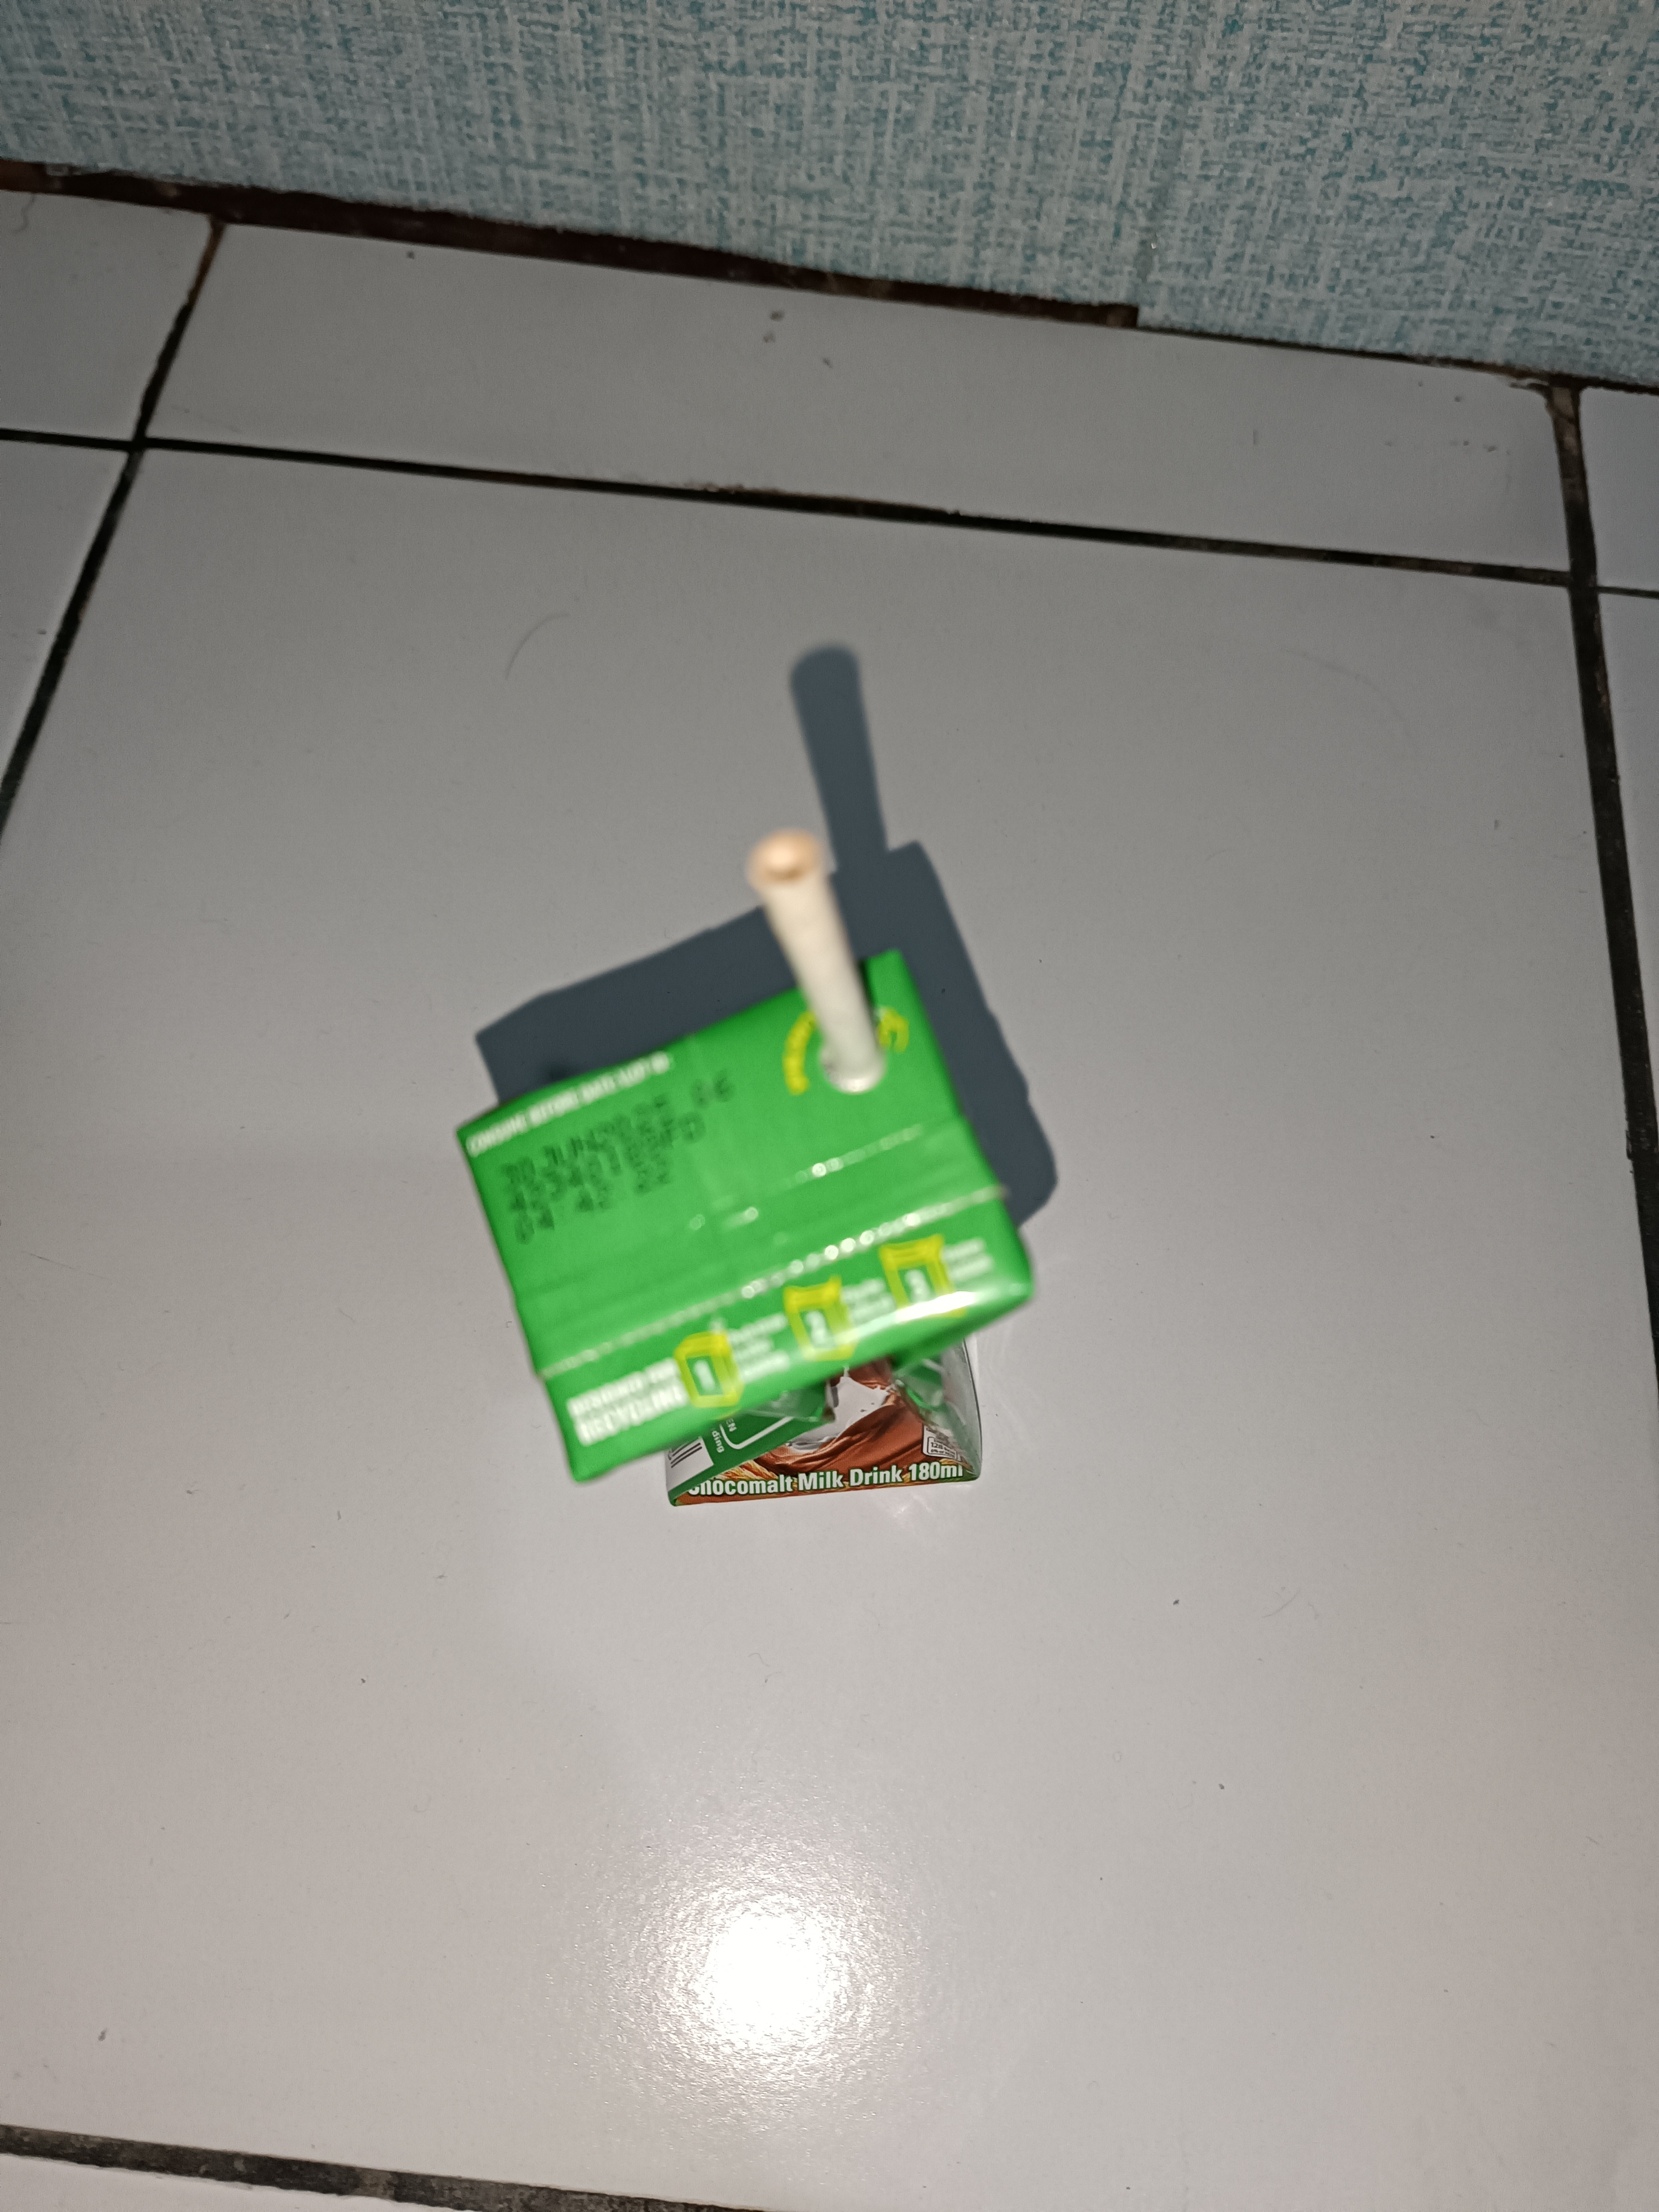Juice Box: (479, 796, 981, 1618)
